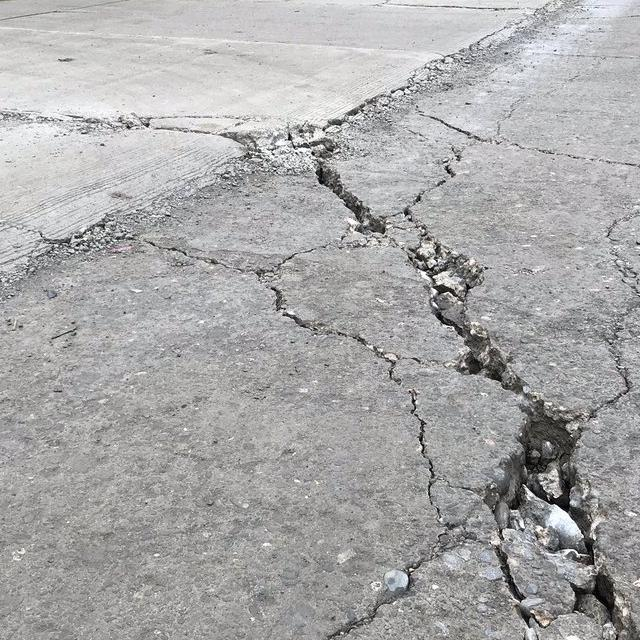retak_memanjang: (330, 190, 640, 640), (107, 202, 360, 342), (448, 111, 640, 226)
